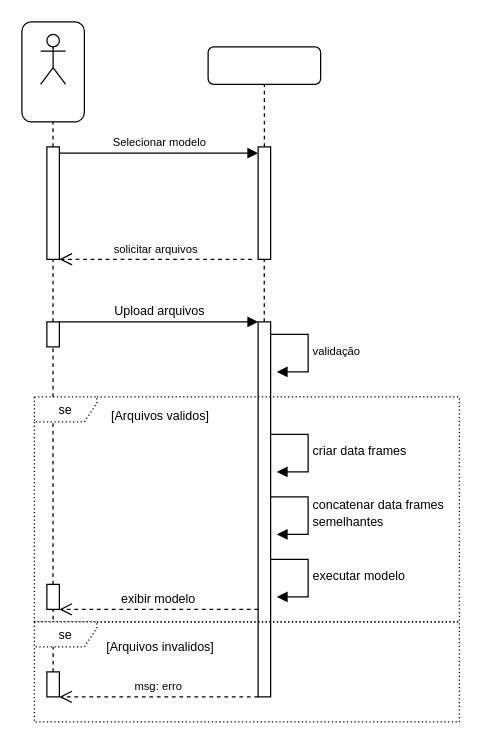
Some shapes in this 481 by 744 pixel diagram are drawn without their labels. Here are the shapes that lost their labels. From the top down, the box of each, then its label:
(39, 33, 66, 84): Usuário
(207, 46, 321, 84): Sistema
